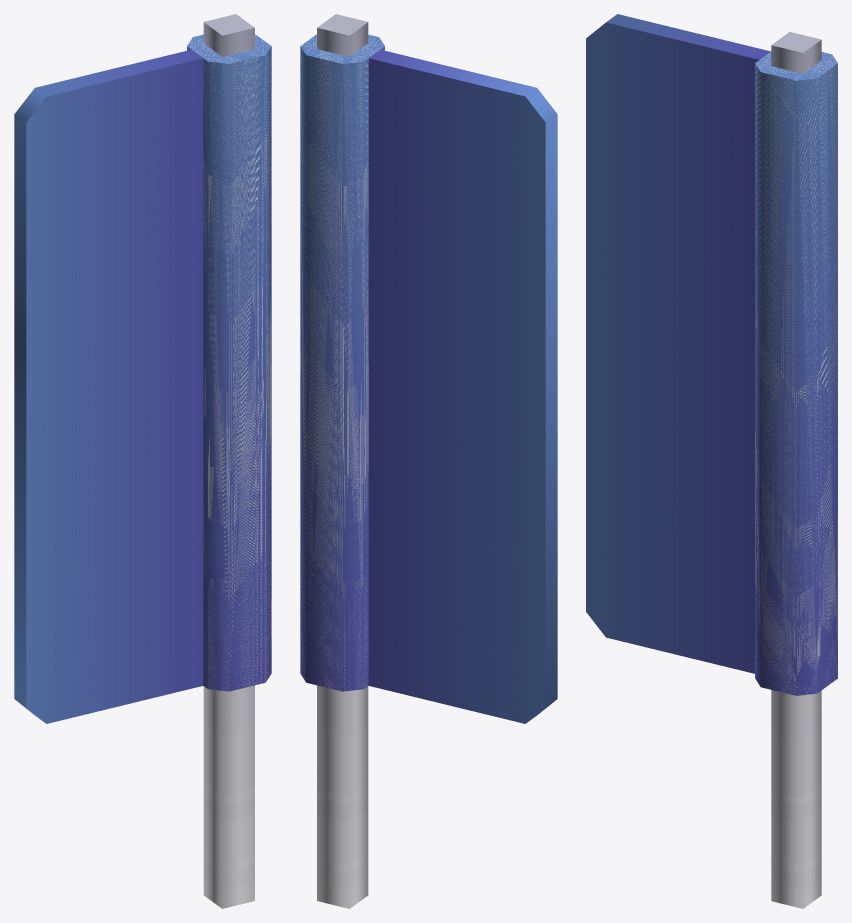
The model's file is flag-large-blue.glb.
The picture shows the model from 3 angles, left to right: view 1: azimuth 30°, elevation 25°; view 2: azimuth 150°, elevation 25°; view 3: azimuth 330°, elevation 25°; orthographic projection. The views are drawn at different scales.
Parts seen in each view (by area): view 1: flag-large-blue; view 2: flag-large-blue; view 3: flag-large-blue.
Part boxes in pixels (<box>): flag-large-blue: <box>14,14,271,908</box>; flag-large-blue: <box>300,14,557,908</box>; flag-large-blue: <box>586,14,837,908</box>.
Bounding box in the file's own units: 0.2956 × 1.02 × 0.0781.
1 material, 1 textured.
